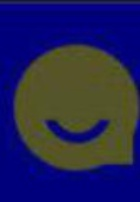ImgButton: (1, 1, 139, 201)
